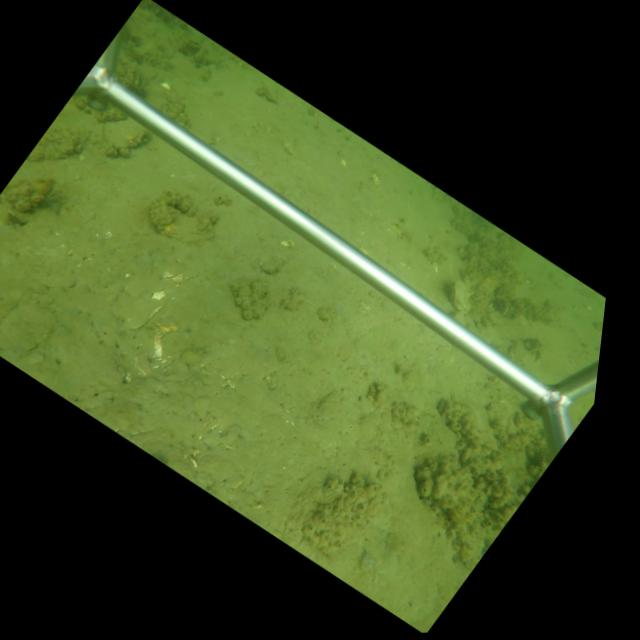Oyster-Closed: (445, 276, 477, 316), (257, 250, 287, 276)
